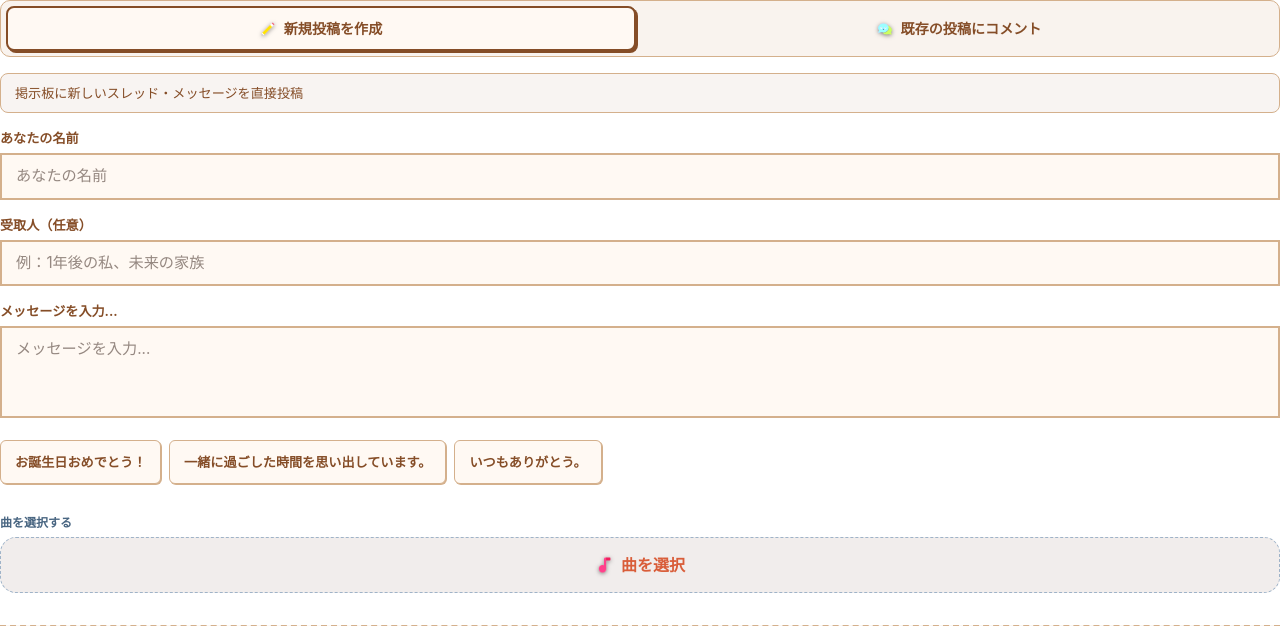
Test case: MessageForm - 投稿モーダル再設計（モードA vs モードB） › タブクリックで既存投稿への返信モード（モードB）に切り替えられ、投稿選択モーダルを開けること
Click the tab "既存の投稿にコメント".
click(959, 29)  # box [644,6,1274,51]
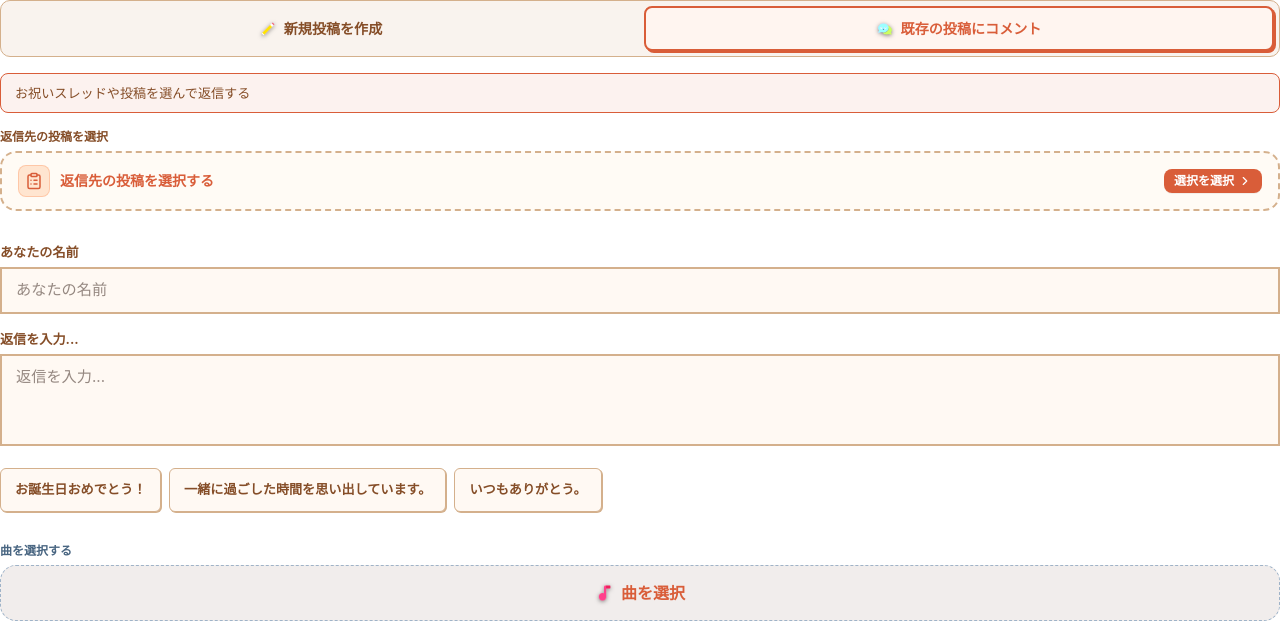
Expected: the button "返信先の投稿を選択する" is shown
Click the button "返信先の投稿を選択する".
click(34, 181)  # box [0,152,1279,212]
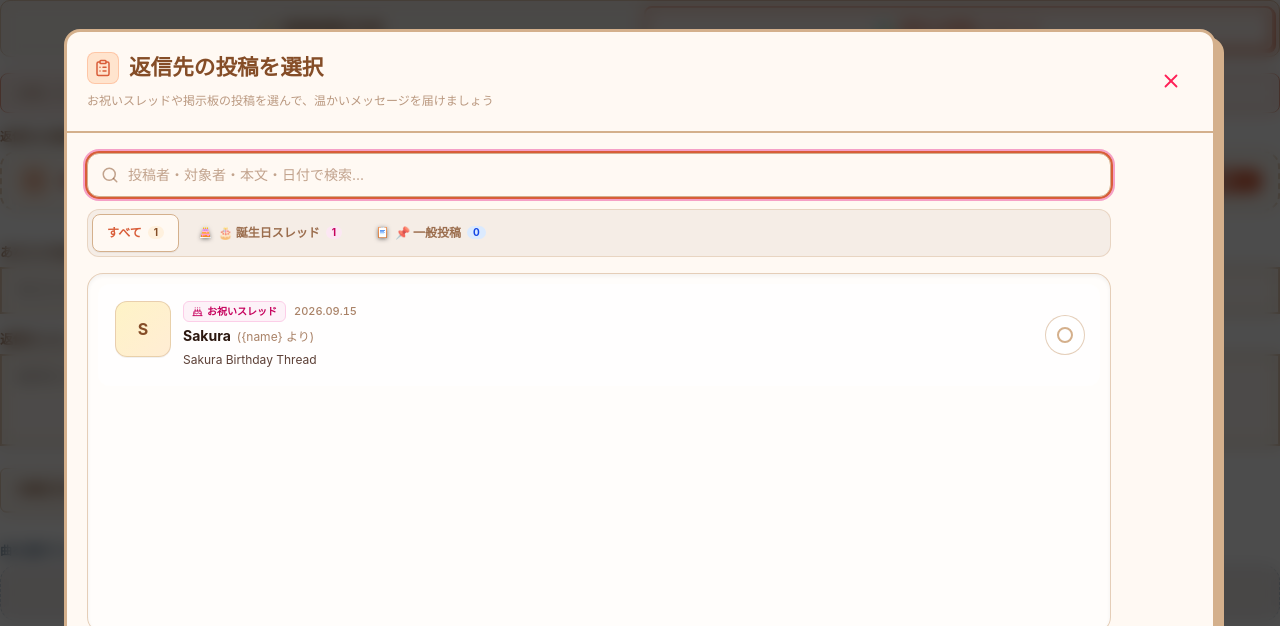
Expected: the text "Sakura" is shown, [183,326,231,346]
